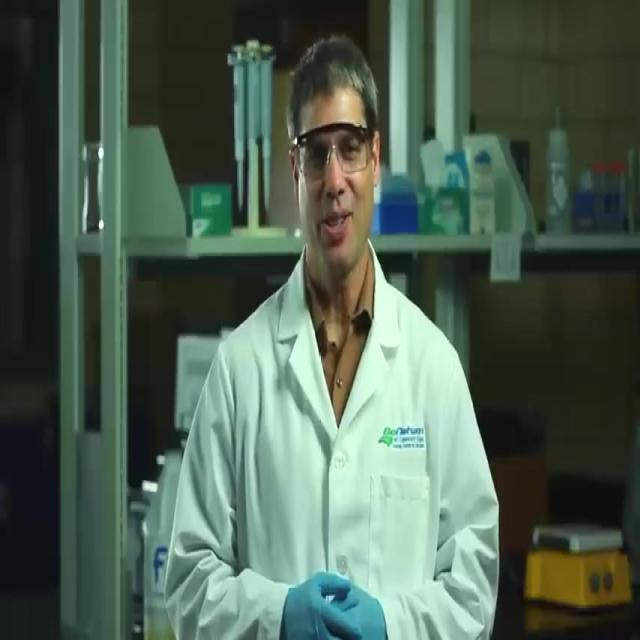googles: (294, 120, 374, 177)
labcoat: (163, 234, 498, 640)
